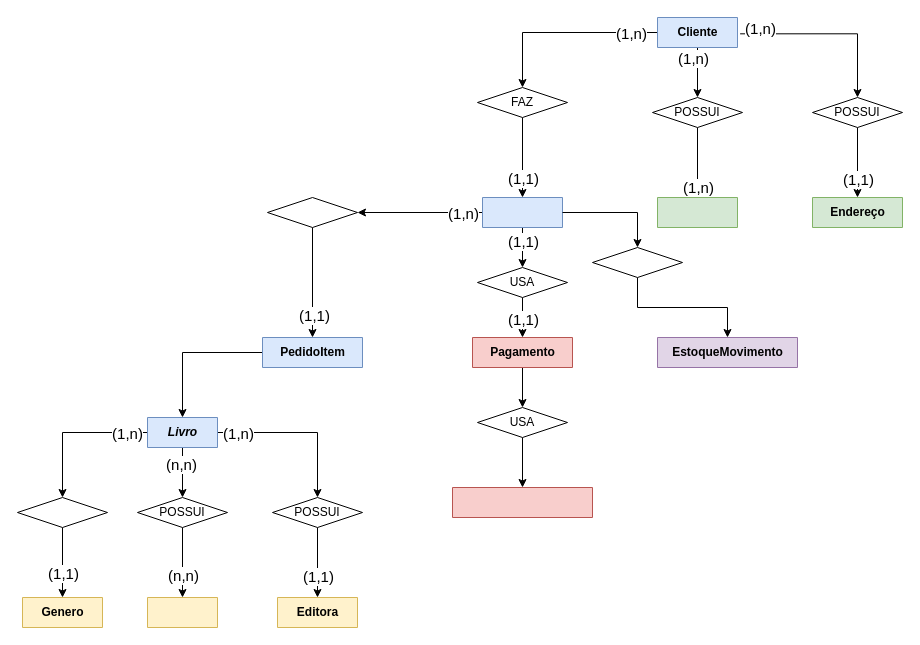
Image size: 920x645. Some labels were removed from this diagram. The centre of each missing label's shape, as x and y in pixels:
Autor: pixel 182 612
Contato: pixel 697 212
CONTEM: pixel 312 212
FormaPagamento: pixel 522 502
INSERE: pixel 637 262
Pedido: pixel 522 212
TEM: pixel 62 512
